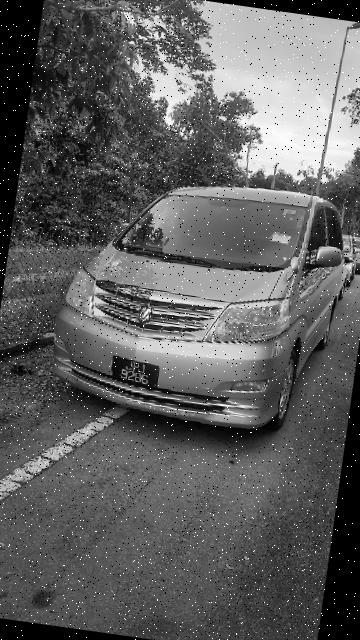License_Plate: (103, 353, 166, 395)
car: (37, 157, 360, 450)
